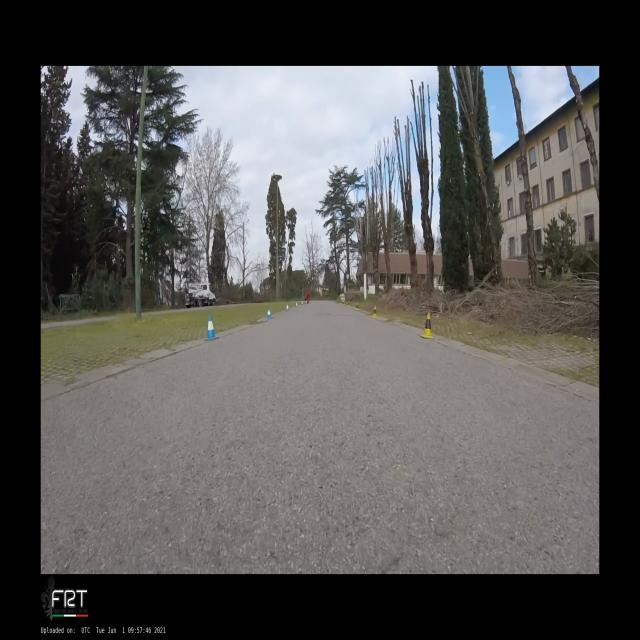blue_cone: (204, 316, 218, 340), (266, 308, 272, 318), (286, 305, 288, 311)
yellow_cone: (420, 312, 435, 339), (372, 306, 377, 318), (356, 303, 358, 309), (348, 302, 349, 306)
